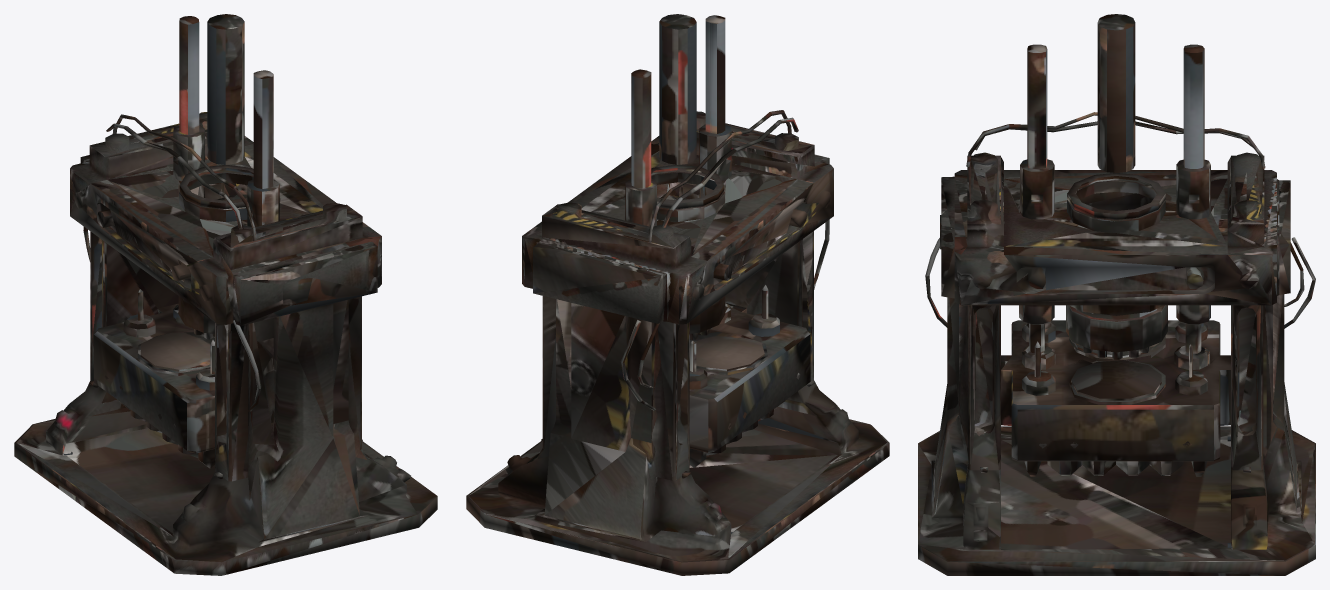
File: Press.fbx
3 renders of one model, left to right at view 1: azimuth 30°, elevation 25°; view 2: azimuth 150°, elevation 25°; view 3: azimuth 270°, elevation 25°, orthographic. The views are drawn at different scales.
Visible parts, largest first — view 1: tripo_part_11, tripo_part_5, tripo_part_12; view 2: tripo_part_11, tripo_part_5, tripo_part_12; view 3: tripo_part_11, tripo_part_5, tripo_part_12.
Part boxes in pixels (x1,y1,x2,y2): tripo_part_11: [14, 112, 437, 575]; tripo_part_5: [94, 14, 279, 468]; tripo_part_12: [83, 114, 261, 411]; tripo_part_11: [466, 111, 889, 575]; tripo_part_5: [625, 14, 810, 467]; tripo_part_12: [620, 110, 829, 410]; tripo_part_11: [918, 152, 1315, 575]; tripo_part_5: [1001, 14, 1230, 476]; tripo_part_12: [925, 112, 1315, 328].
Bounding box in the file's own units: 0.5969 × 1 × 0.7417.
